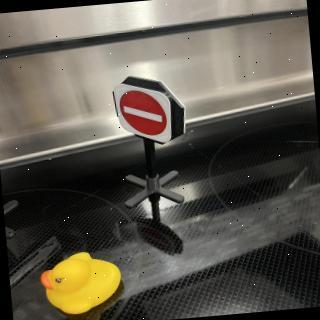duck_regular: (39, 250, 125, 320)
sign_noentry: (113, 74, 178, 149)
